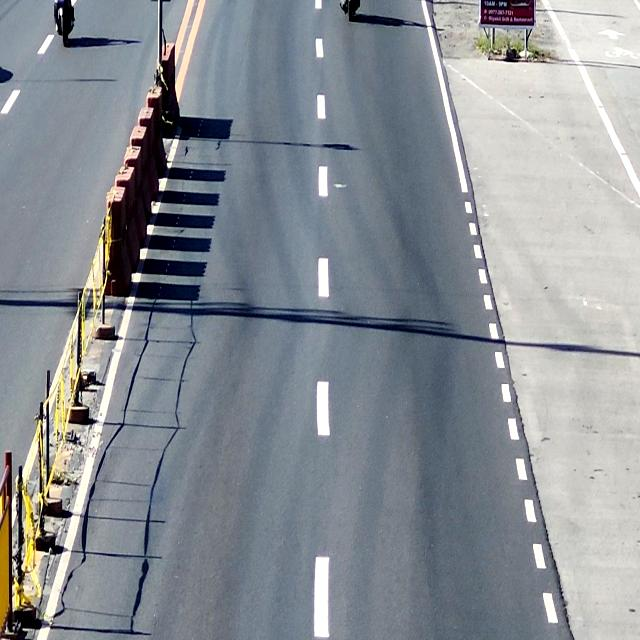Motorcycle: (338, 0, 362, 23)
